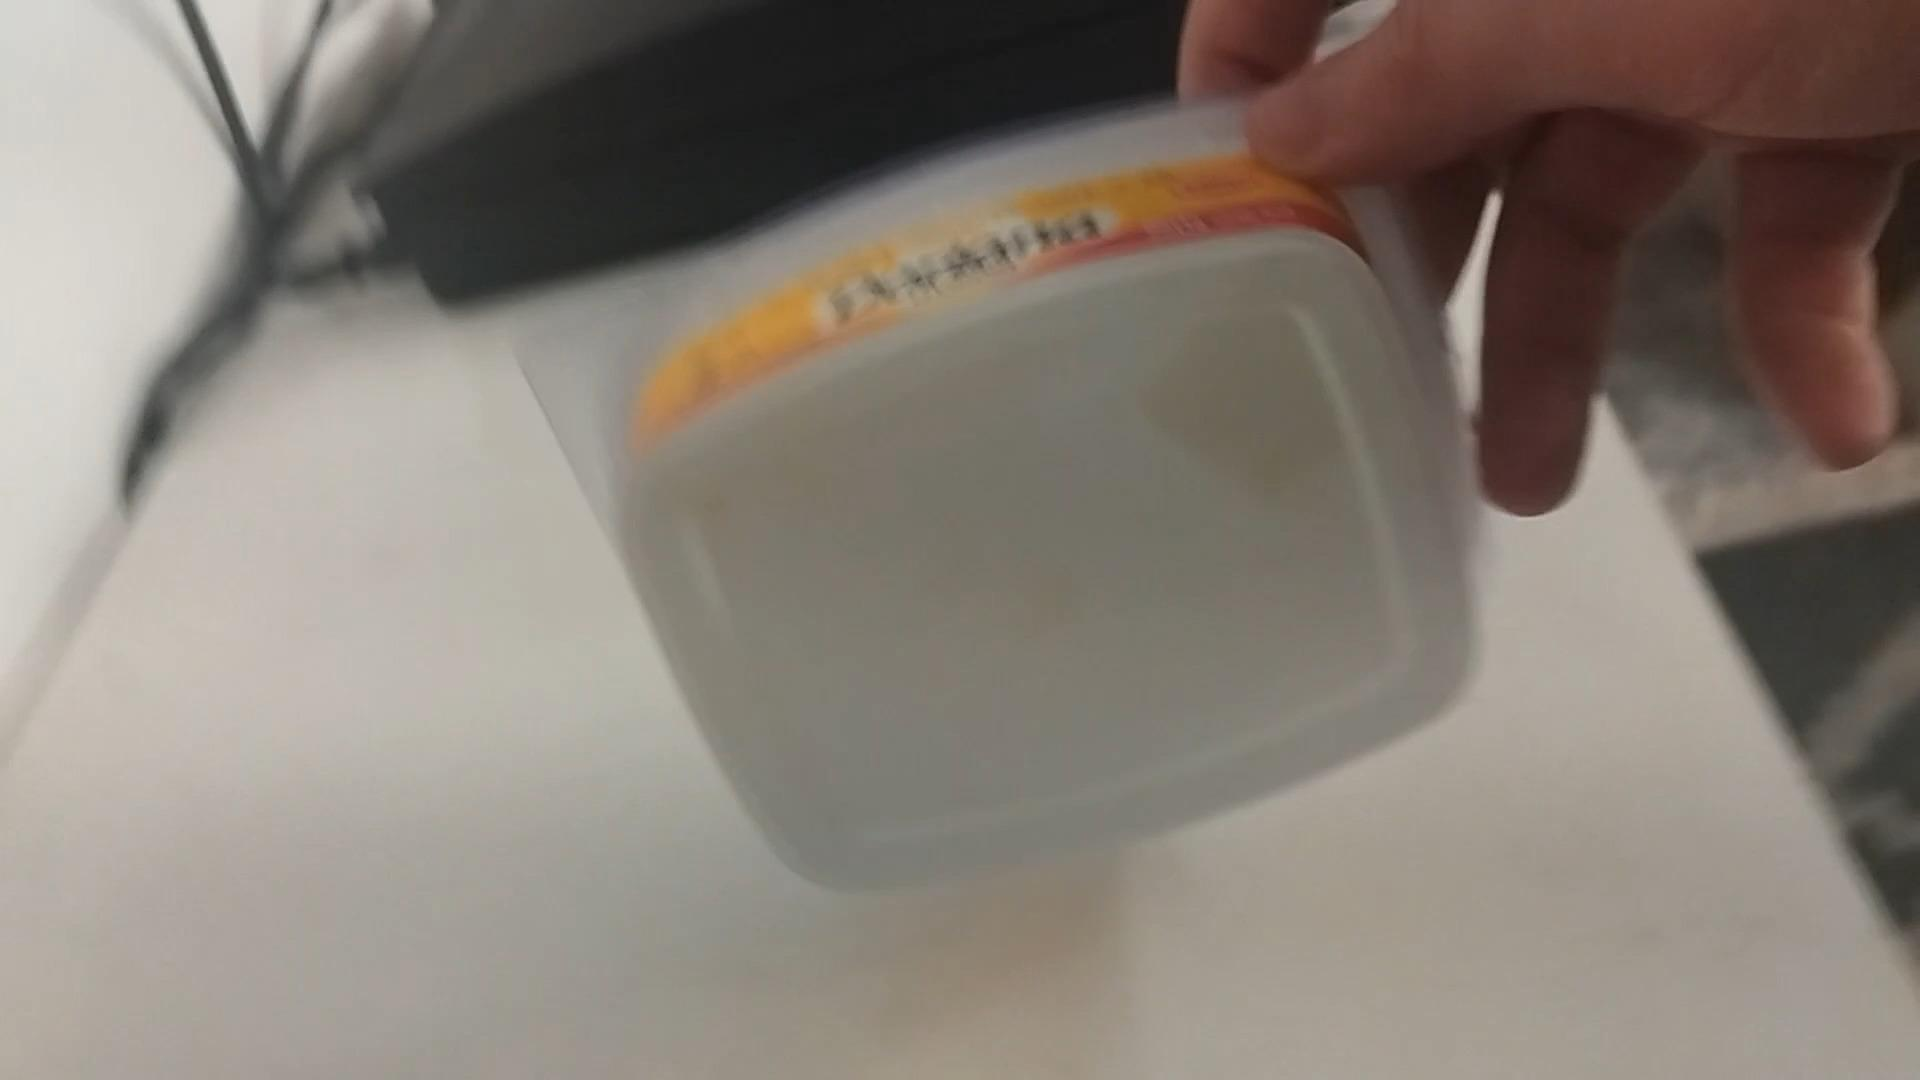butter: (513, 84, 1489, 897)
